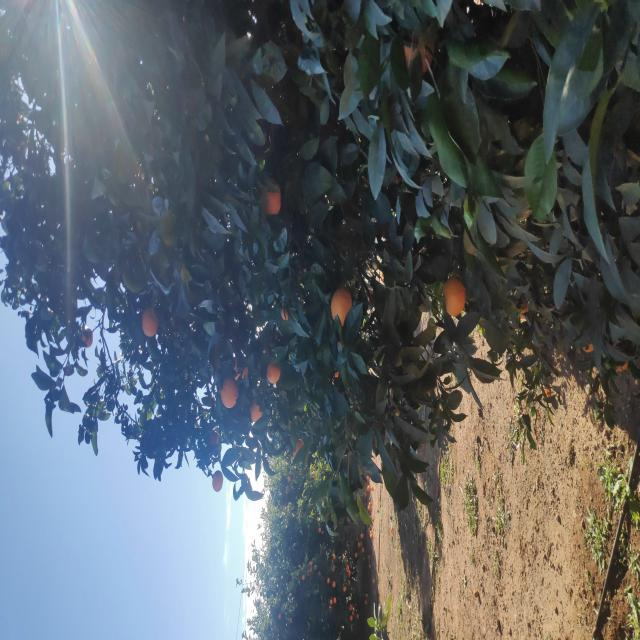Jeruk Sudah Matang: (561, 404, 608, 440), (324, 443, 360, 466), (316, 331, 354, 352), (427, 265, 462, 282), (304, 142, 330, 158), (234, 222, 258, 238), (148, 212, 169, 224), (255, 268, 276, 280), (182, 293, 200, 304), (222, 250, 234, 264), (53, 332, 59, 336), (82, 354, 88, 358), (48, 343, 54, 346), (64, 348, 70, 351), (70, 346, 76, 349), (82, 332, 86, 336), (60, 302, 65, 305), (74, 309, 78, 312), (108, 319, 114, 321), (58, 327, 62, 330), (37, 334, 43, 336), (36, 330, 40, 333), (30, 350, 36, 352), (20, 350, 24, 353), (92, 358, 98, 360), (94, 360, 100, 362), (101, 360, 107, 362), (87, 362, 93, 364), (57, 348, 60, 351), (22, 278, 24, 282), (160, 288, 164, 290), (81, 368, 85, 370), (72, 369, 76, 371), (22, 357, 26, 359), (69, 310, 72, 312), (31, 330, 34, 332)
